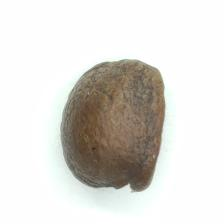NG: (87, 173, 149, 193)
